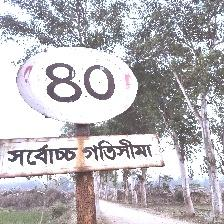Speed-limit: (2, 46, 153, 174)
